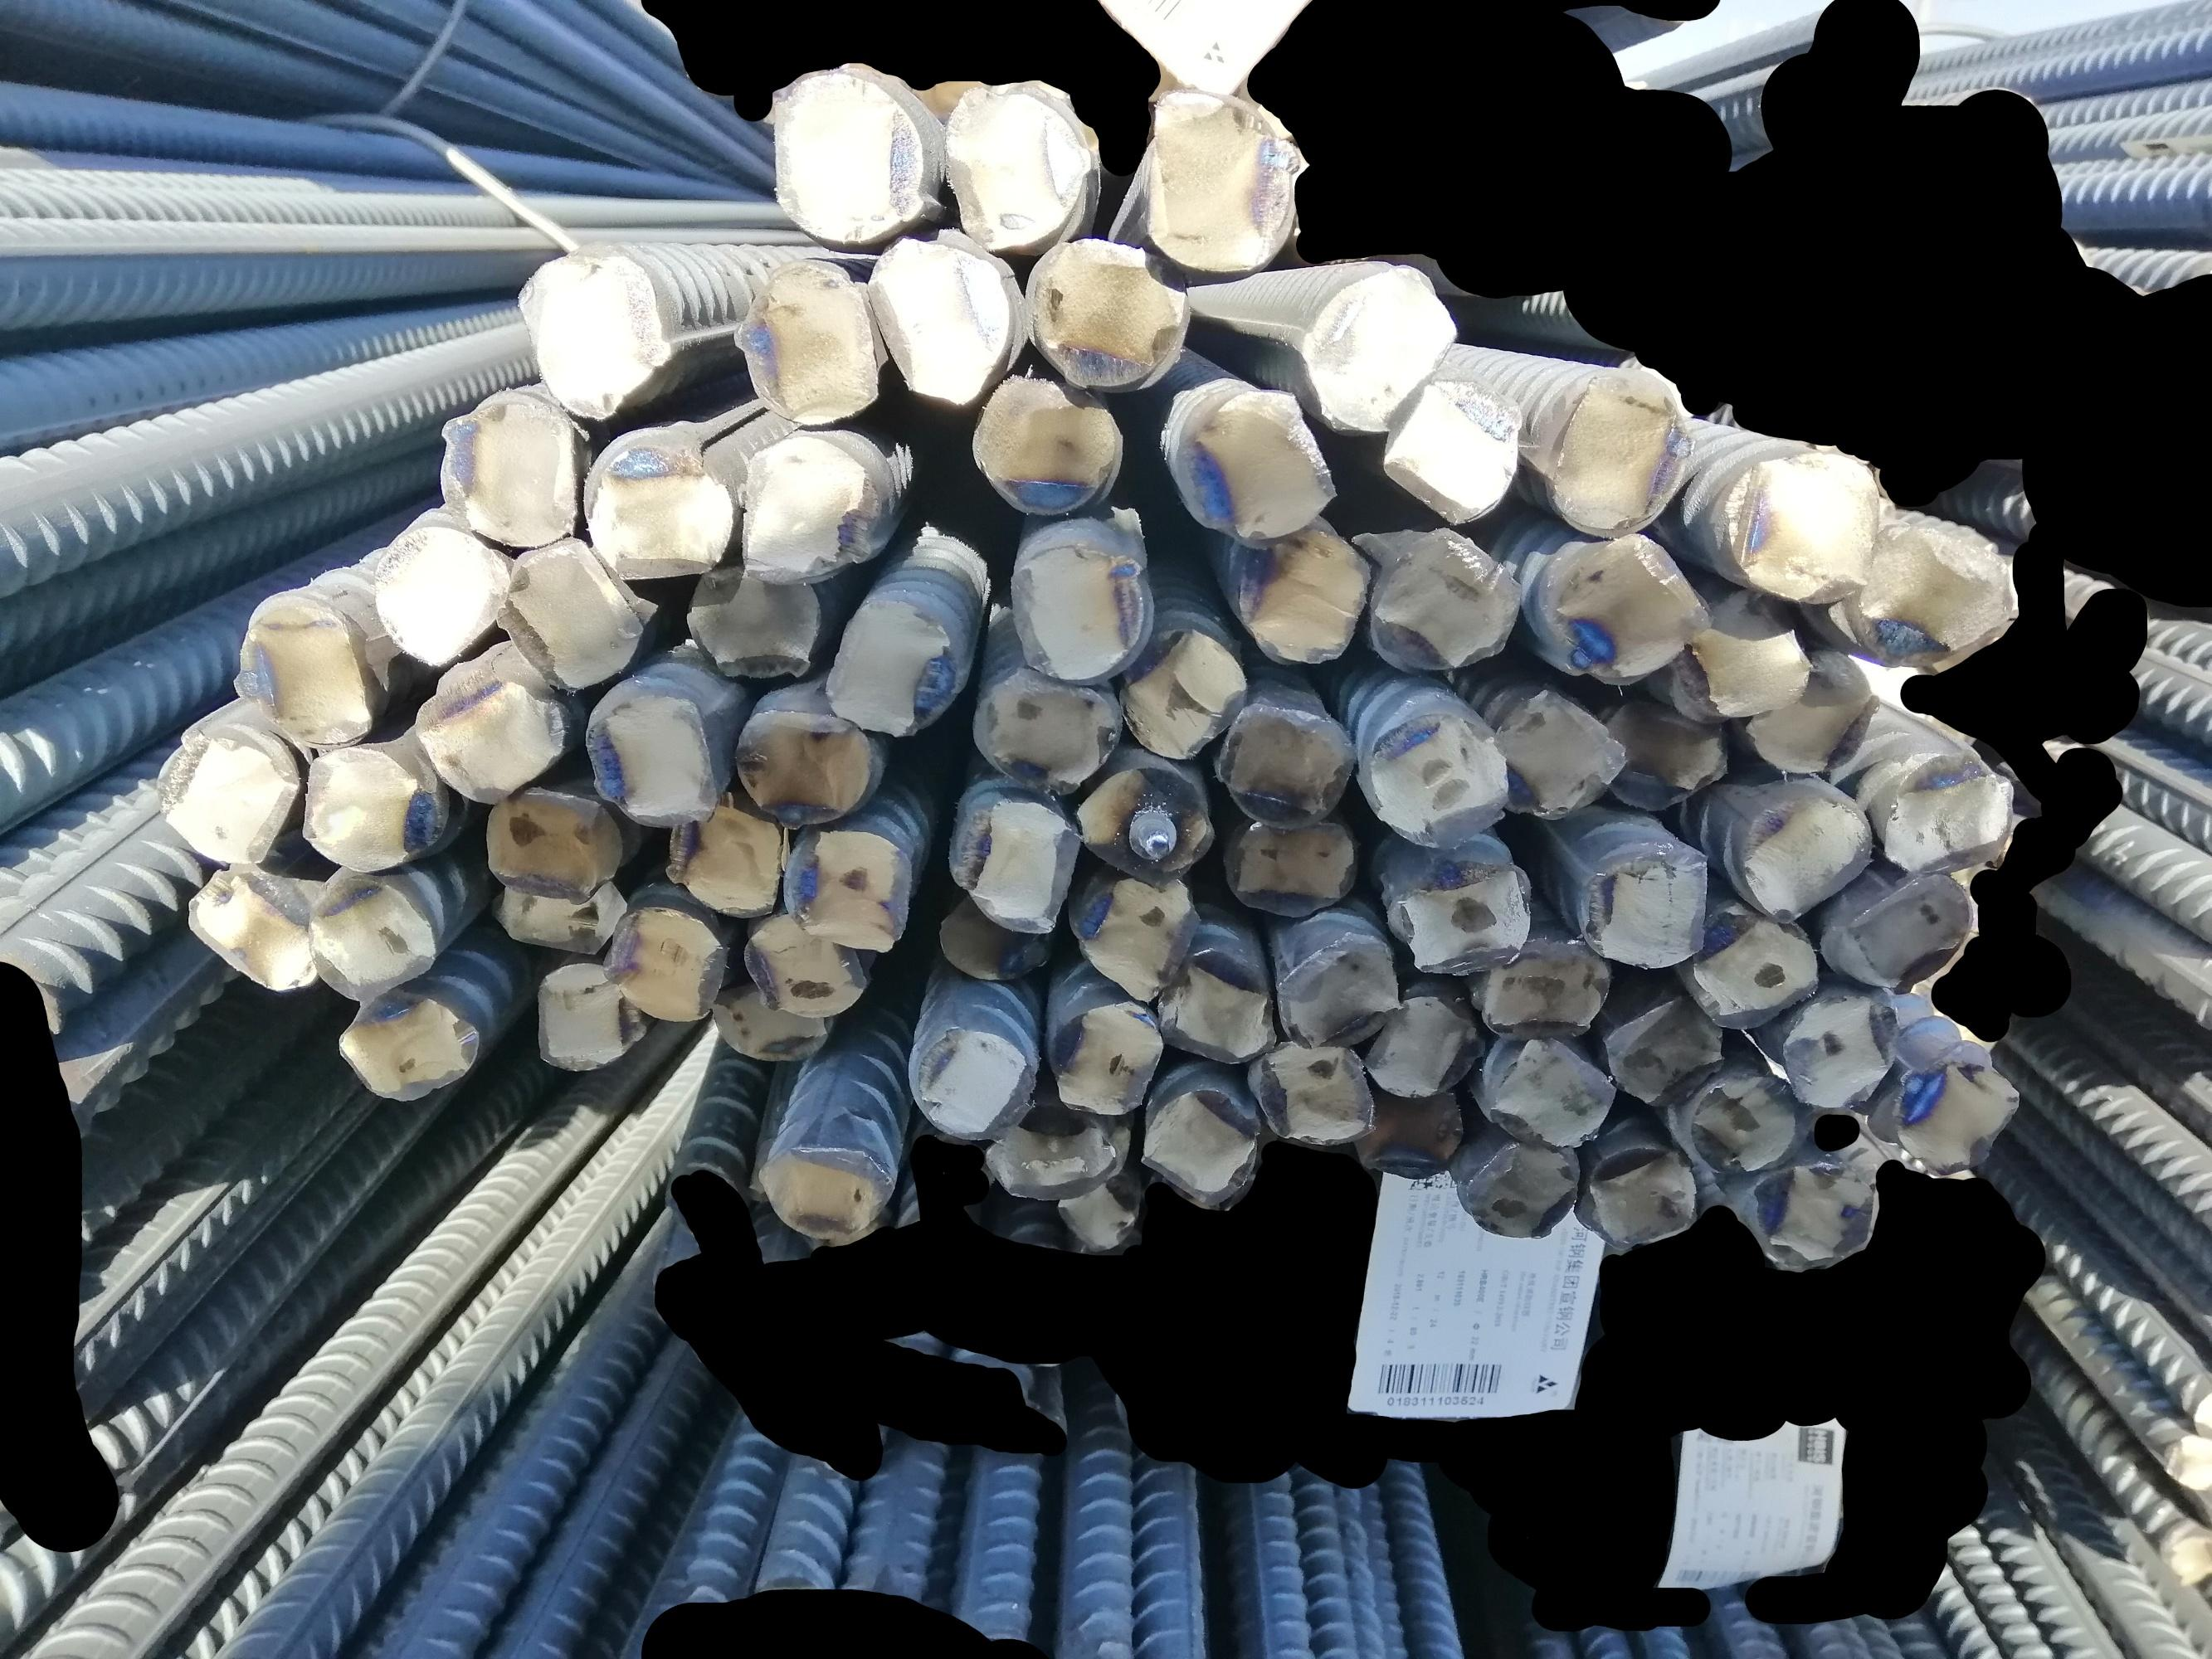bar: (1147, 75, 1297, 274), (763, 70, 927, 251), (1297, 263, 1452, 444), (518, 247, 678, 422), (865, 232, 1016, 406), (943, 80, 1095, 254), (1546, 361, 1694, 538), (1173, 382, 1339, 540), (736, 260, 885, 430), (1027, 242, 1189, 394), (1846, 532, 2020, 671), (1727, 458, 1893, 603), (967, 369, 1123, 521), (730, 432, 882, 587), (1551, 530, 1705, 681), (406, 660, 567, 805), (502, 538, 652, 692), (436, 396, 582, 551), (582, 439, 737, 584), (1372, 525, 1520, 674), (1379, 378, 1525, 526), (232, 598, 377, 744), (1231, 521, 1374, 666), (150, 727, 295, 868), (1006, 545, 1150, 687), (371, 528, 511, 671), (1365, 711, 1510, 849), (1116, 620, 1252, 762), (1485, 687, 1626, 823), (296, 868, 436, 1004), (978, 666, 1123, 796), (582, 687, 718, 824), (1217, 695, 1358, 828), (950, 784, 1072, 936), (302, 742, 441, 873), (821, 598, 952, 737), (180, 864, 317, 995), (335, 986, 483, 1105), (1740, 791, 1876, 920), (1077, 756, 1215, 884), (479, 784, 622, 906), (777, 826, 910, 957), (1743, 641, 1872, 772), (1478, 1030, 1618, 1150), (741, 701, 870, 829), (683, 565, 823, 683), (1886, 753, 2017, 878), (1581, 847, 1713, 969), (1082, 871, 1203, 1006), (1689, 911, 1823, 1028), (603, 903, 729, 1026), (1401, 859, 1530, 979), (1597, 702, 1734, 814), (1780, 986, 1902, 1112), (758, 1134, 896, 1244), (913, 1021, 1037, 1143), (1898, 1053, 2020, 1176), (737, 908, 870, 1019), (1842, 875, 1975, 986), (664, 800, 786, 920), (1138, 1087, 1260, 1206), (1274, 934, 1398, 1051), (1605, 993, 1729, 1108), (1245, 1040, 1377, 1147), (1457, 1127, 1581, 1241), (1159, 955, 1281, 1068), (1747, 1157, 1876, 1262), (1483, 936, 1614, 1037), (1234, 812, 1360, 917), (532, 960, 647, 1073), (1055, 995, 1159, 1117), (1687, 613, 1809, 716), (978, 1114, 1117, 1202), (490, 870, 628, 958), (1367, 992, 1480, 1098), (934, 887, 1055, 986), (1353, 1079, 1468, 1178), (708, 974, 830, 1065), (1694, 1075, 1801, 1176), (1590, 1145, 1691, 1249), (1046, 1155, 1135, 1248)
